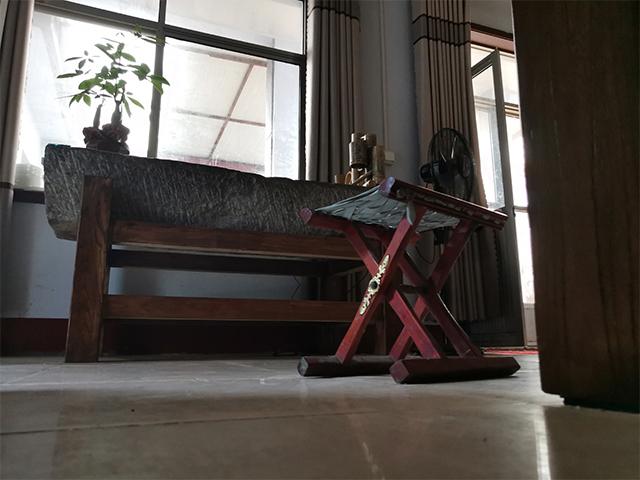curtain: (397, 1, 481, 319), (303, 1, 352, 176)
stool: (295, 173, 523, 386)
